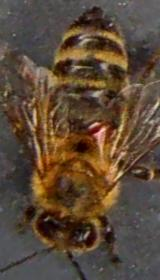varroa_mite: (82, 107, 116, 152)
